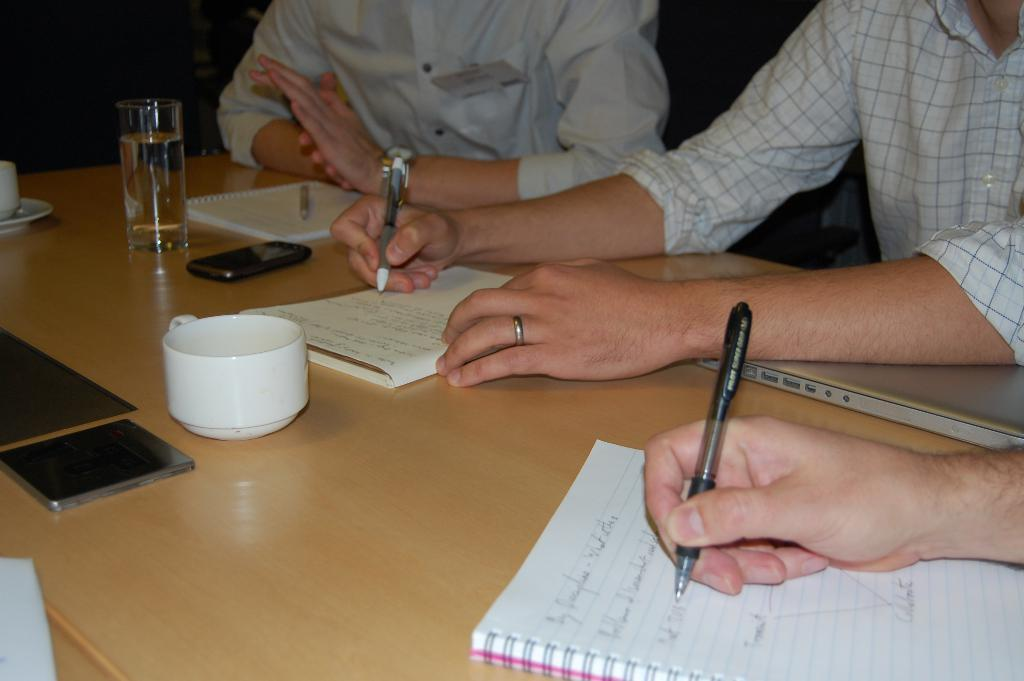Book: (237, 263, 515, 389)
Computer-mouse: (185, 238, 312, 283)
